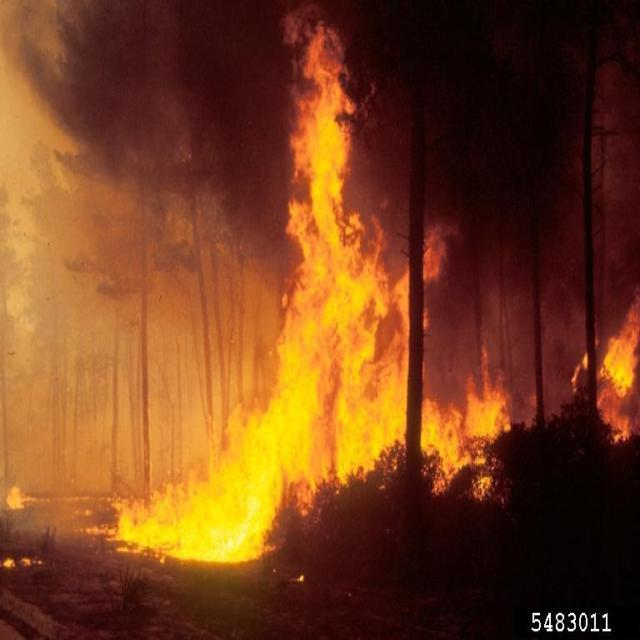Fire: (116, 22, 510, 566), (571, 284, 640, 443)
